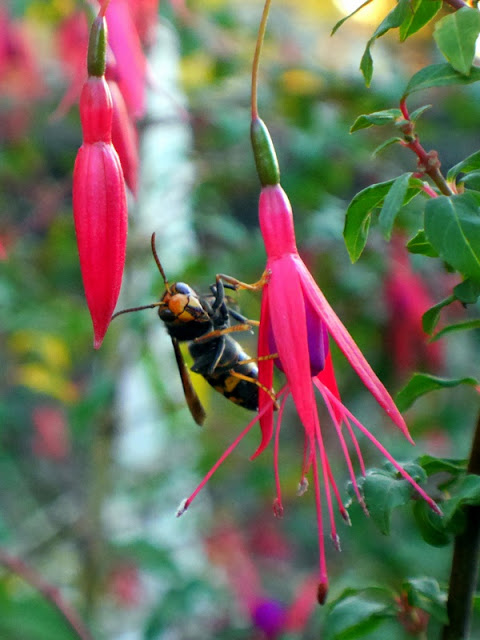hornet: (137, 250, 292, 425)
